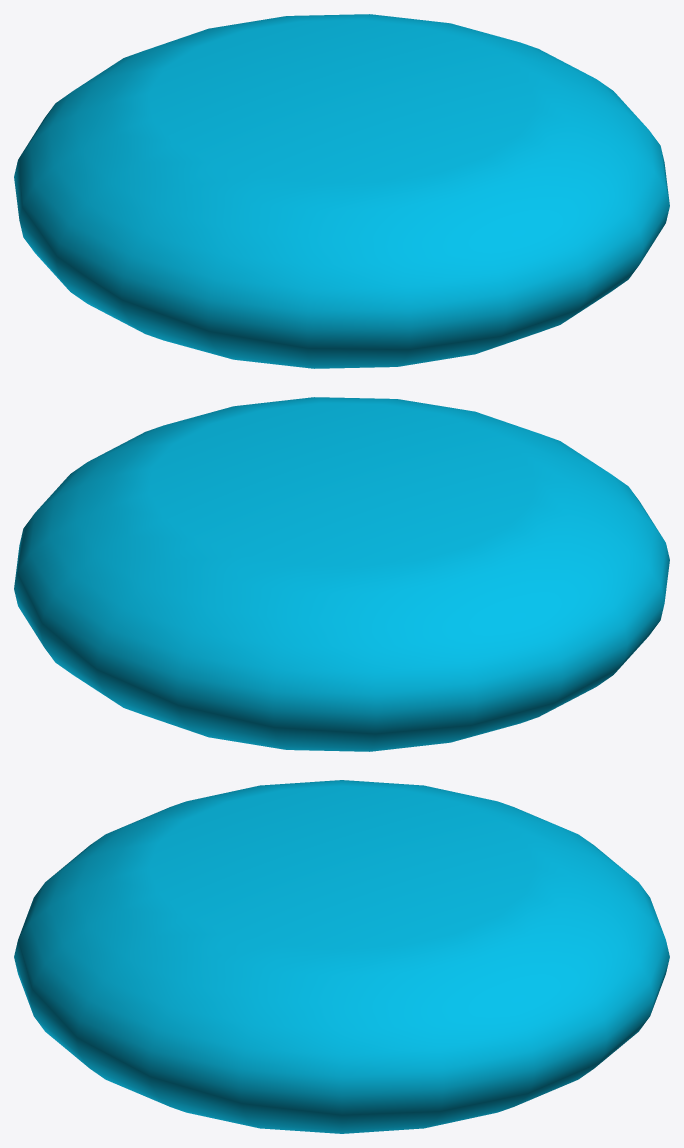
Rendered from button.fbx.
The picture shows the model from 3 angles, top to bottom: view 1: azimuth 30°, elevation 25°; view 2: azimuth 150°, elevation 25°; view 3: azimuth 270°, elevation 25°; orthographic projection.
Parts seen in each view (by area): view 1: button; view 2: button; view 3: button.
Boxes of the visible parts, x1=… form: button: x1=14, y1=14, x2=669, y2=368; button: x1=14, y1=397, x2=669, y2=751; button: x1=14, y1=780, x2=669, y2=1133.
Bounding box in the file's own units: 0.4458 × 0.1338 × 0.4458.
